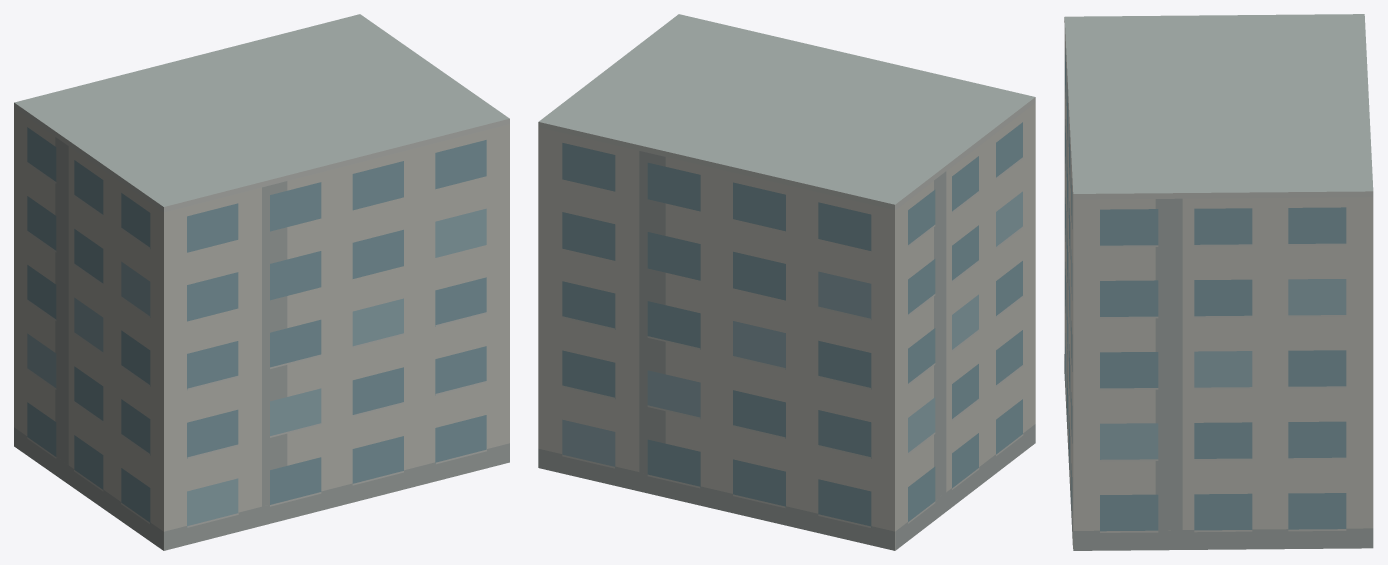
The model's file is residential-8971810c-5cc8-4e6e-b322-ae6033c6d7ac.glb.
3 renders of one model, left to right at view 1: azimuth 30°, elevation 25°; view 2: azimuth 150°, elevation 25°; view 3: azimuth 270°, elevation 25°, orthographic. The views are drawn at different scales.
Parts seen in each view (by area): view 1: residential-8971810c-5cc8-4e6e-b322-ae6033c6d7ac.tmp; view 2: residential-8971810c-5cc8-4e6e-b322-ae6033c6d7ac.tmp; view 3: residential-8971810c-5cc8-4e6e-b322-ae6033c6d7ac.tmp.
Boxes of the visible parts, x1=… form: residential-8971810c-5cc8-4e6e-b322-ae6033c6d7ac.tmp: x1=14, y1=14, x2=509, y2=550; residential-8971810c-5cc8-4e6e-b322-ae6033c6d7ac.tmp: x1=538, y1=14, x2=1035, y2=550; residential-8971810c-5cc8-4e6e-b322-ae6033c6d7ac.tmp: x1=1064, y1=14, x2=1373, y2=550.
Bounding box in the file's own units: 16.5 × 15.25 × 11.97.
